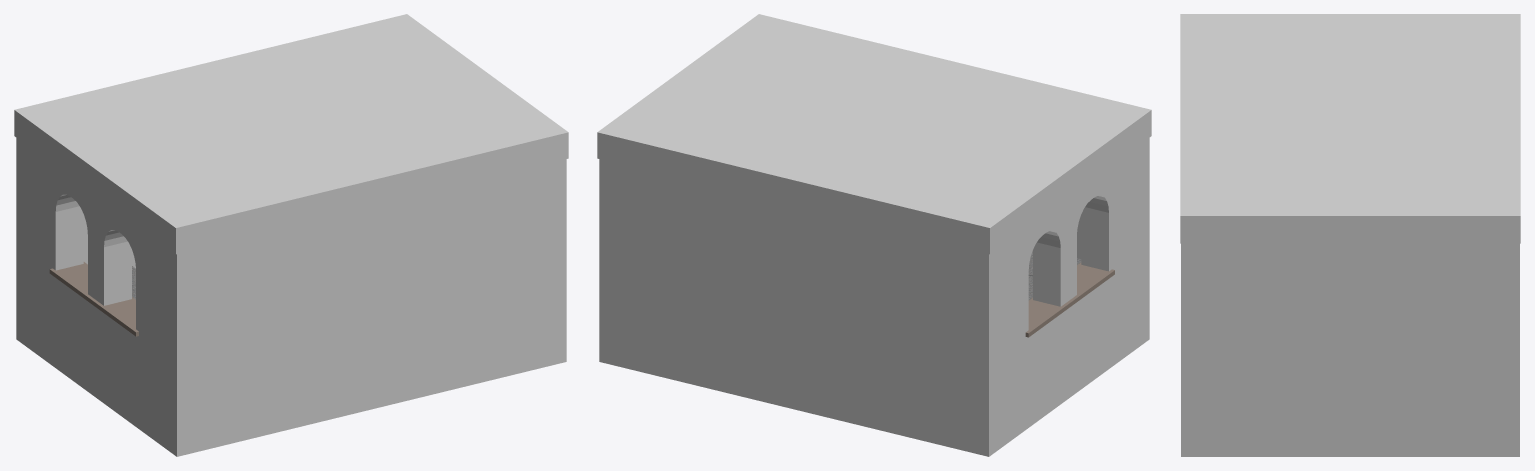
Rendered from Conditorei.glb.
3 views of the same model, side by side, from view 1: azimuth 30°, elevation 25°; view 2: azimuth 150°, elevation 25°; view 3: azimuth 270°, elevation 25° (orthographic). The views are drawn at different scales.
Parts seen in each view (by area): view 1: Room, Roof, WindowBoard; view 2: Room, Roof, WindowBoard; view 3: Roof, Room.
Boxes of the visible parts, bbox=[...] form: Room: bbox=[16, 138, 566, 456]; Roof: bbox=[14, 14, 568, 254]; WindowBoard: bbox=[49, 262, 138, 336]; Room: bbox=[599, 138, 1149, 456]; Roof: bbox=[597, 14, 1151, 254]; WindowBoard: bbox=[1025, 262, 1114, 337]; Roof: bbox=[1180, 14, 1520, 243]; Room: bbox=[1181, 243, 1519, 456].
Bounding box in the file's own units: 7.08 × 3.94 × 5.03.
Materials: 6 (2 with a texture image).
